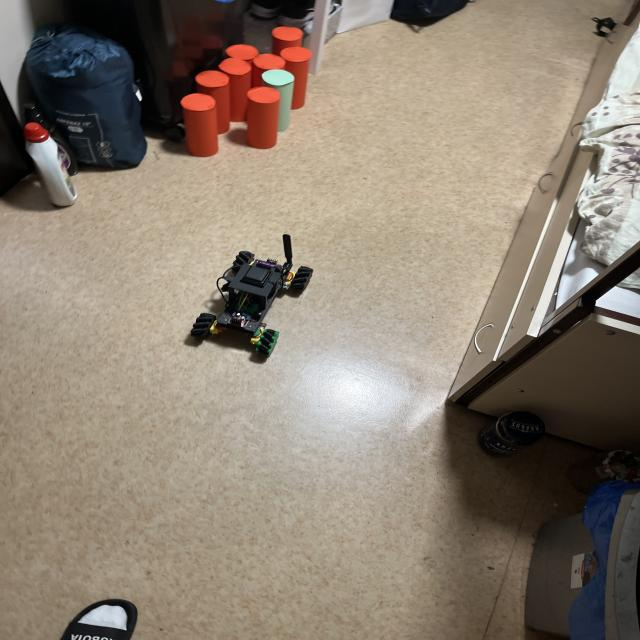robot: (190, 234, 313, 355)
